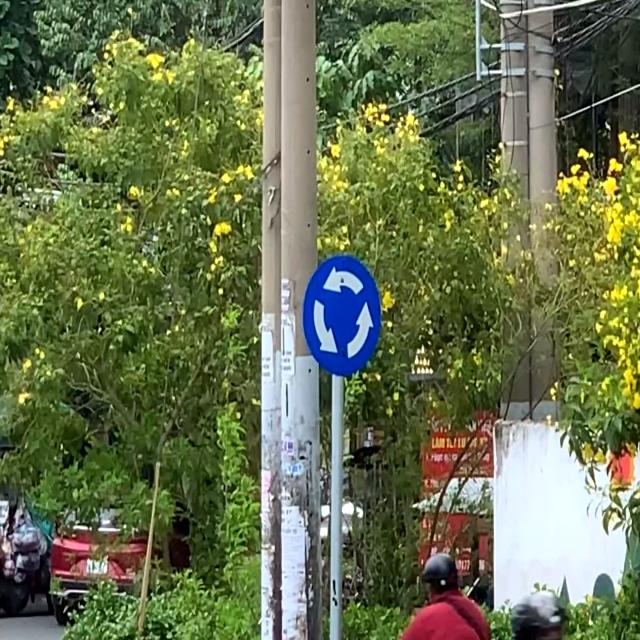R.303: (300, 253, 382, 378)
